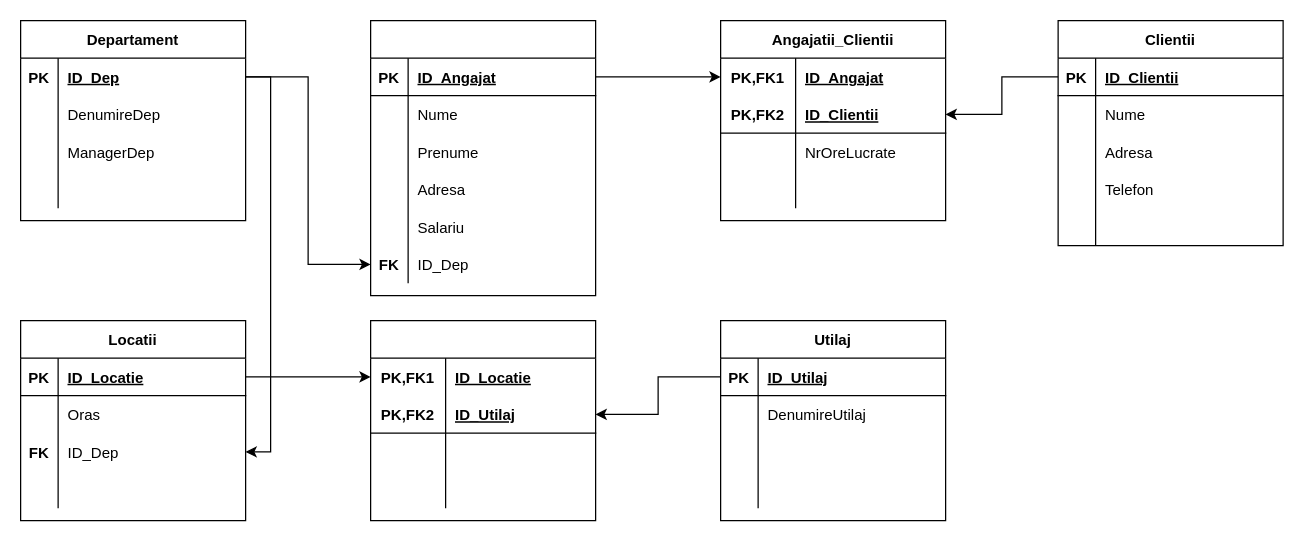
This 1304x541 diagram has some shape labels left out. Here are the shapes that lost their labels. From the top down, the box of each, then its label:
(369, 19, 596, 296): Angajatii
(369, 319, 596, 521): Locatii_Utilaj
